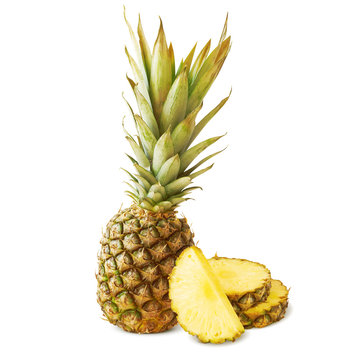Pineapple: (97, 7, 231, 334)
